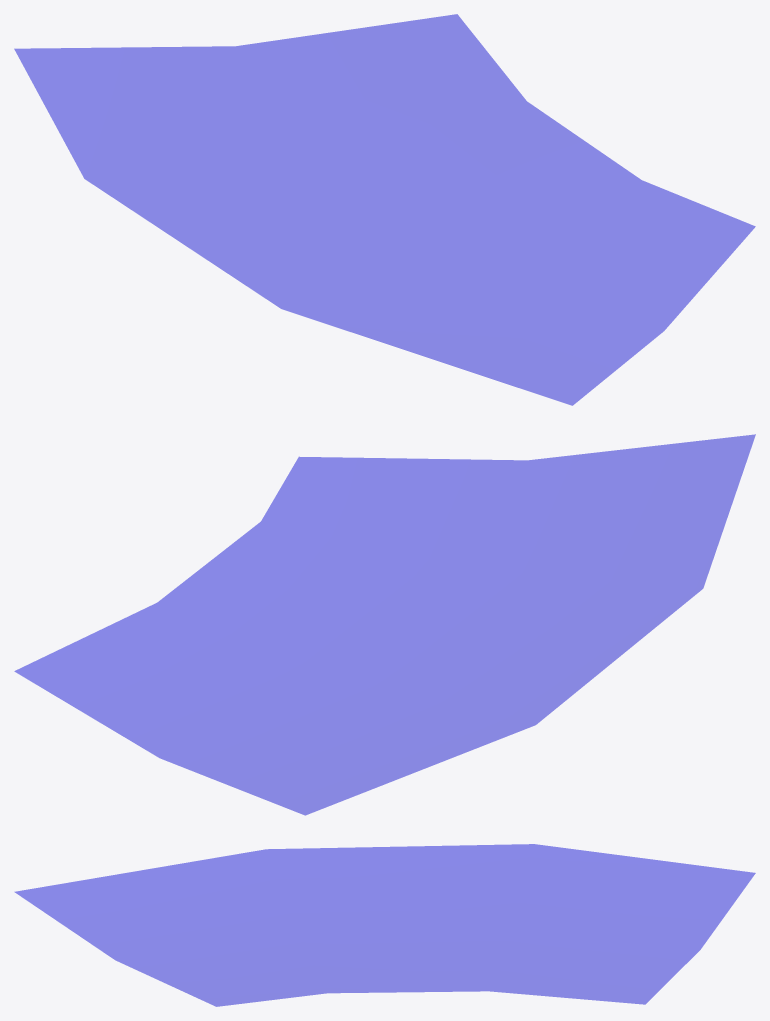
Rendered from track_la_coll_road_52.fbx.
3 renders of one model, top to bottom at view 1: azimuth 30°, elevation 25°; view 2: azimuth 150°, elevation 25°; view 3: azimuth 270°, elevation 25°, orthographic. The views are drawn at different scales.
Parts seen in each view (by area): view 1: track_la_coll_road_52; view 2: track_la_coll_road_52; view 3: track_la_coll_road_52.
Part boxes in pixels (x1,y1,x2,y2): track_la_coll_road_52: [14, 14, 755, 405]; track_la_coll_road_52: [14, 434, 755, 815]; track_la_coll_road_52: [15, 844, 755, 1006].
Size of the model in its own units: 24.46 by 0.7636 by 47.09.
